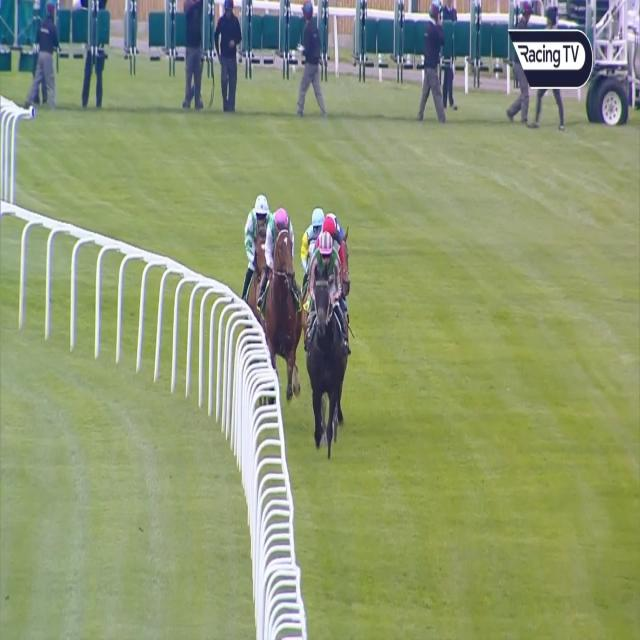horses-racing: (313, 230, 338, 441), (268, 202, 298, 364), (249, 188, 266, 346), (324, 206, 352, 248), (304, 206, 321, 272)
